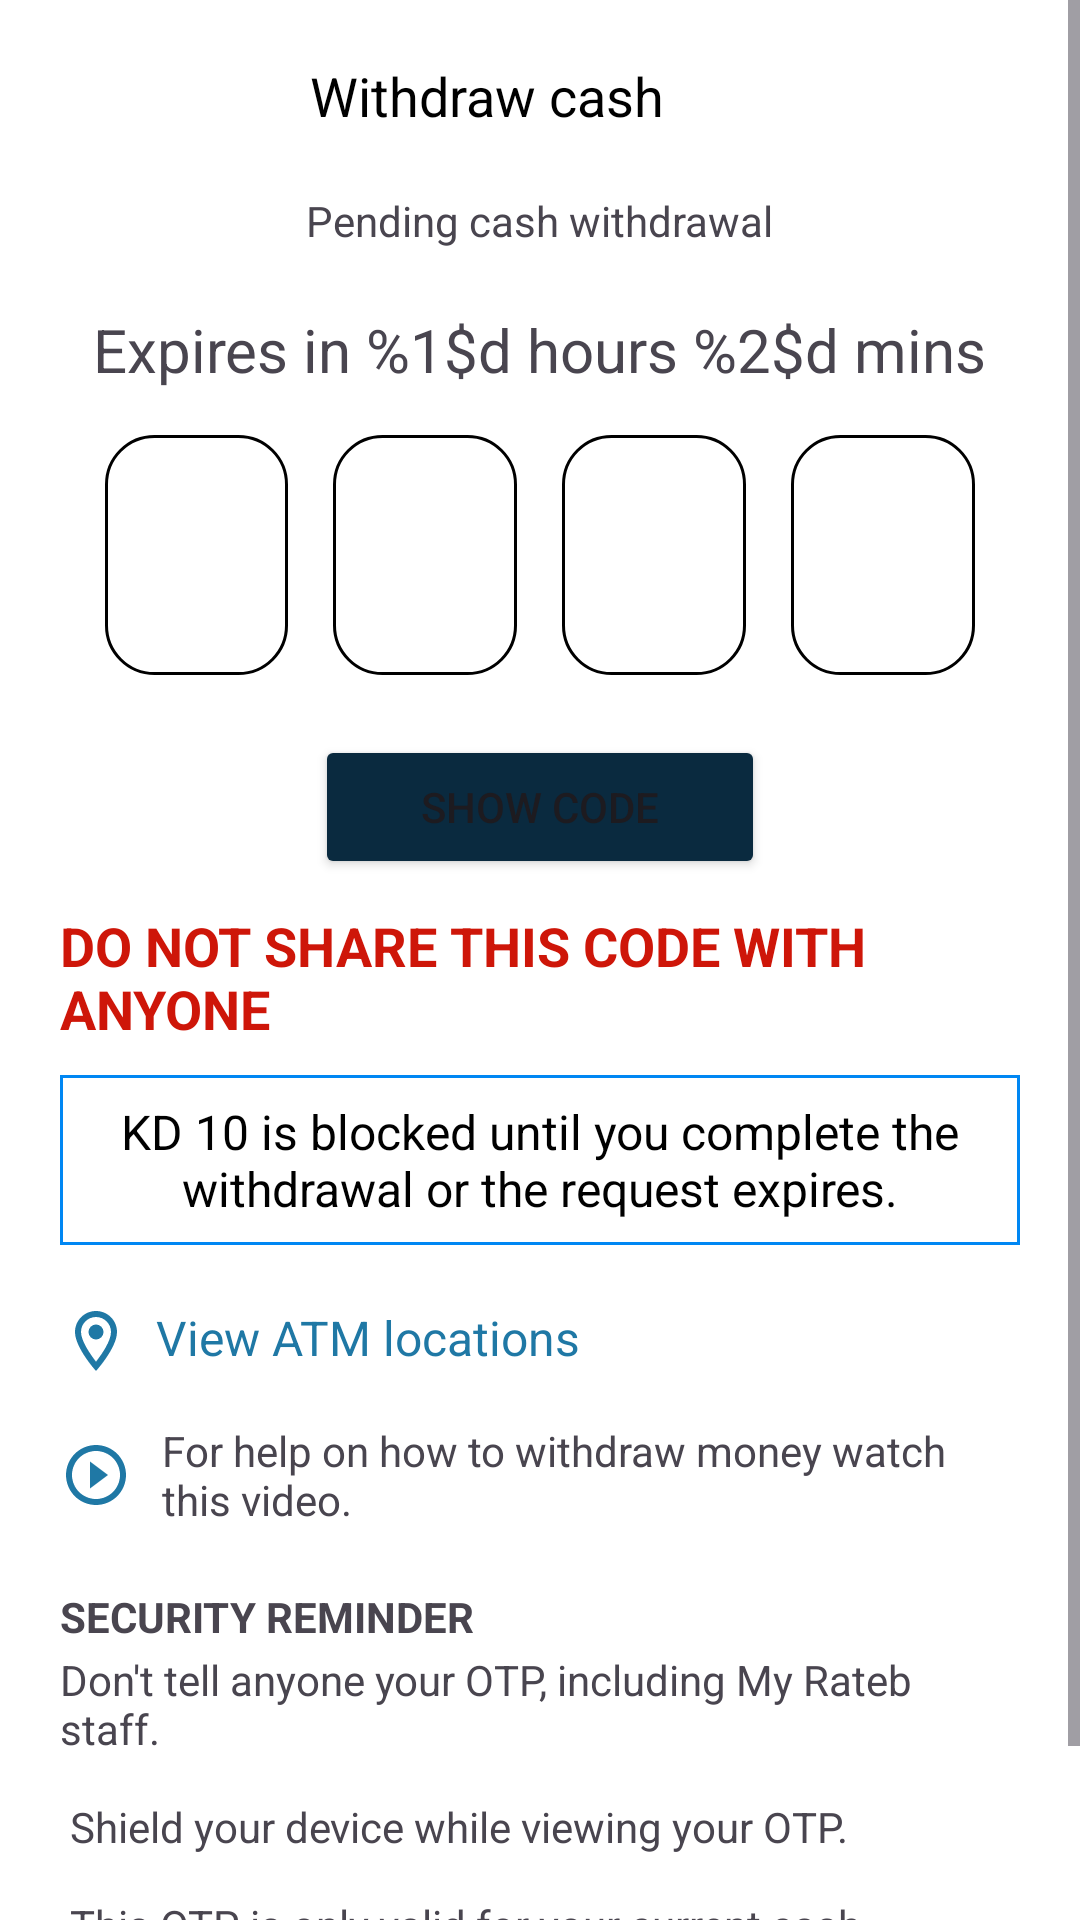

Locate icon controls on the screen. Image size 1080px×1920px, boxes as (x1, y1, x2, y2).
play circle: (66, 1445, 126, 1505)
